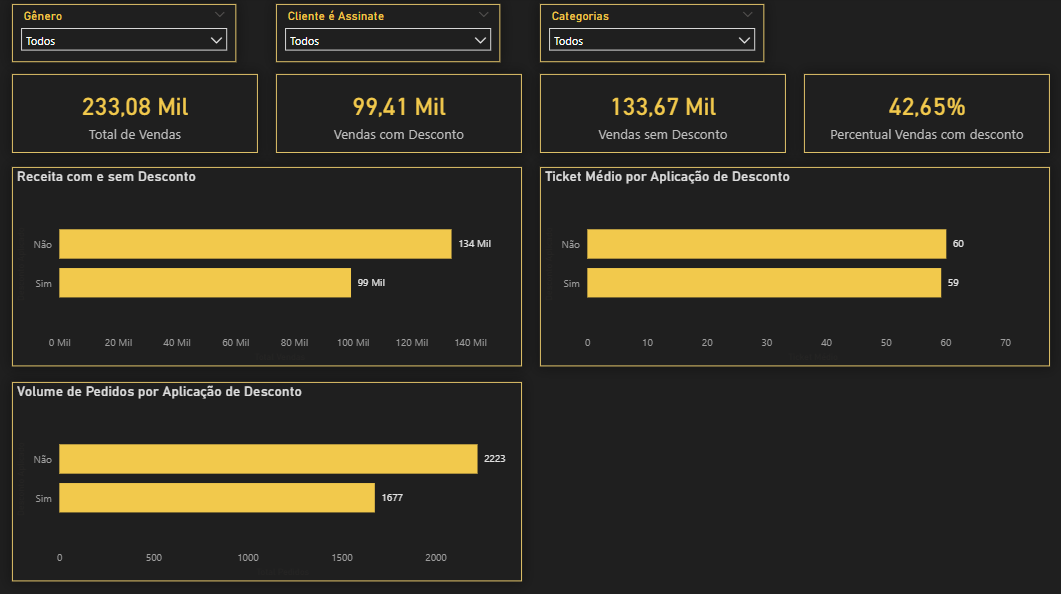

This screenshot's page, from the dashboard's own definition file:
{"tool":"powerbi","page":{"name":"Descontos & Estratégia Comercial","canvas":[1280,720],"ordinal":1},"visuals":[{"type":"card","fields":{"Values":["DimShopping.TotalSales"]},"box":[16.2,92.4,296.2,95],"z":0},{"type":"card","fields":{"Values":["DimShopping.SalesWithDiscount"]},"box":[333.9,92.4,296,95],"z":1000},{"type":"card","fields":{"Values":["DimShopping.SalesWithoutDiscount"]},"box":[651.3,92.4,296,95],"z":2000},{"type":"card","fields":{"Values":["DimShopping.PercentageSalesWithDiscount"]},"box":[968.8,92.4,296.2,95],"z":3000},{"type":"barChart","title":"Receita com e sem Desconto","fields":{"Category":["DimShopping.DiscountApplied_PT"],"Y":["DimShopping.TotalSales"]},"box":[16.2,205.3,613.8,240],"z":4000},{"type":"barChart","title":"Ticket Médio por Aplicação de Desconto","fields":{"Category":["DimShopping.DiscountApplied_PT"],"Y":["DimShopping.AverageTicket"]},"box":[651.2,205.3,613.8,240],"z":5000},{"type":"barChart","title":"Volume de Pedidos por Aplicação de Desconto","fields":{"Category":["DimShopping.DiscountApplied_PT"],"Y":["DimShopping.TotalOrders"]},"box":[16.2,463.8,613.8,240],"z":6000},{"type":"slicer","fields":{"Values":["DimShopping.Gender_PT"]},"box":[30,8.8,270,70],"z":7000},{"type":"slicer","fields":{"Values":["DimShopping.SubscriptionStatus_PT"]},"box":[347.5,8.8,270,70],"z":8000},{"type":"slicer","fields":{"Values":["DimShopping.Category"]},"box":[663.8,8.8,270,70],"z":9000}]}

Visuals, with their boxes in screenshot pixels (x1, y1, x2, y2), scaled from the page's 1280x720 canvas onto the 1061x594 screenshot:
card - DimShopping.TotalSales: box=[13, 76, 259, 155]
card - DimShopping.SalesWithDiscount: box=[277, 76, 522, 155]
card - DimShopping.SalesWithoutDiscount: box=[540, 76, 785, 155]
card - DimShopping.PercentageSalesWithDiscount: box=[803, 76, 1049, 155]
"Receita com e sem Desconto" barChart: box=[13, 169, 522, 367]
"Ticket Médio por Aplicação de Desconto" barChart: box=[540, 169, 1049, 367]
"Volume de Pedidos por Aplicação de Desconto" barChart: box=[13, 383, 522, 581]
slicer - DimShopping.Gender_PT: box=[25, 7, 249, 65]
slicer - DimShopping.SubscriptionStatus_PT: box=[288, 7, 512, 65]
slicer - DimShopping.Category: box=[550, 7, 774, 65]
